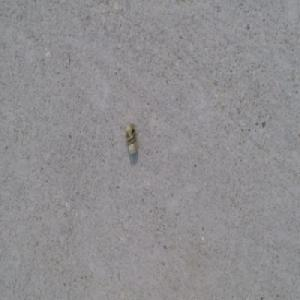BoltNutSet: (125, 123, 139, 155)
